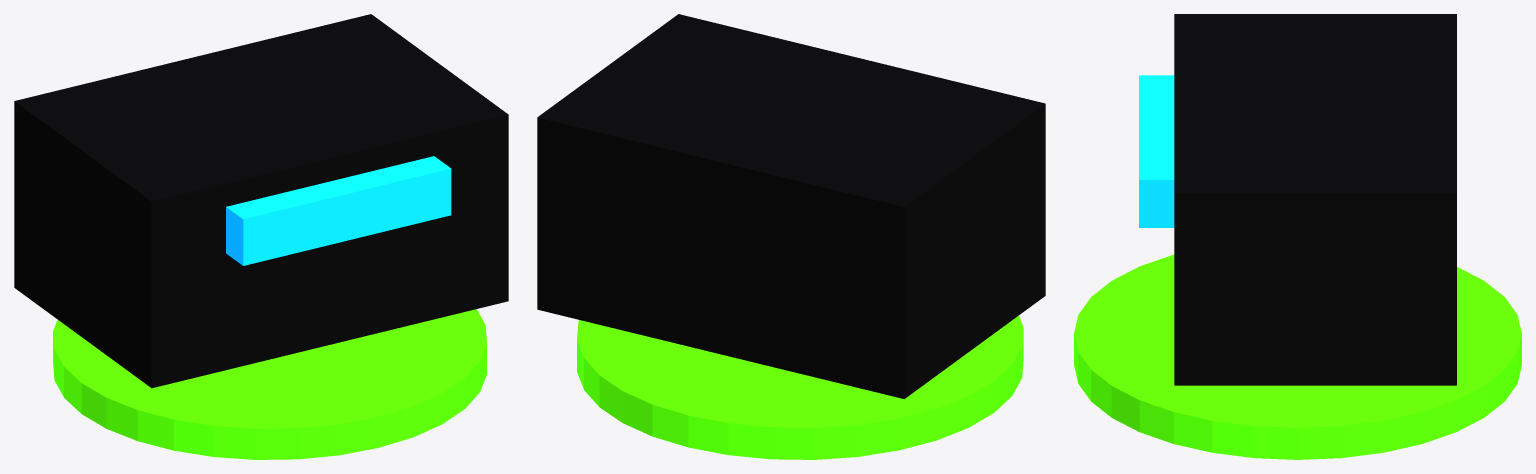
The model's file is tech_power_bank.dae.
3 renders of one model, left to right at view 1: azimuth 30°, elevation 25°; view 2: azimuth 150°, elevation 25°; view 3: azimuth 270°, elevation 25°, orthographic. The views are drawn at different scales.
Visible parts, largest first — view 1: 08_16_Popular_Tech_Power_Bank_part_01, 08_16_Popular_Tech_Power_Bank_ROOT_base, 08_16_Popular_Tech_Power_Bank_part_02; view 2: 08_16_Popular_Tech_Power_Bank_part_01, 08_16_Popular_Tech_Power_Bank_ROOT_base; view 3: 08_16_Popular_Tech_Power_Bank_part_01, 08_16_Popular_Tech_Power_Bank_ROOT_base, 08_16_Popular_Tech_Power_Bank_part_02.
Boxes of the visible parts, box(x1,y1,x2,y2) form: 08_16_Popular_Tech_Power_Bank_part_01: box(14, 14, 508, 388); 08_16_Popular_Tech_Power_Bank_ROOT_base: box(53, 309, 486, 459); 08_16_Popular_Tech_Power_Bank_part_02: box(226, 156, 451, 265); 08_16_Popular_Tech_Power_Bank_part_01: box(537, 14, 1045, 398); 08_16_Popular_Tech_Power_Bank_ROOT_base: box(577, 315, 1023, 459); 08_16_Popular_Tech_Power_Bank_part_01: box(1174, 14, 1456, 385); 08_16_Popular_Tech_Power_Bank_ROOT_base: box(1074, 254, 1521, 459); 08_16_Popular_Tech_Power_Bank_part_02: box(1139, 75, 1174, 227).
Bounding box in the file's own units: 0.76 × 0.49 × 0.76.
